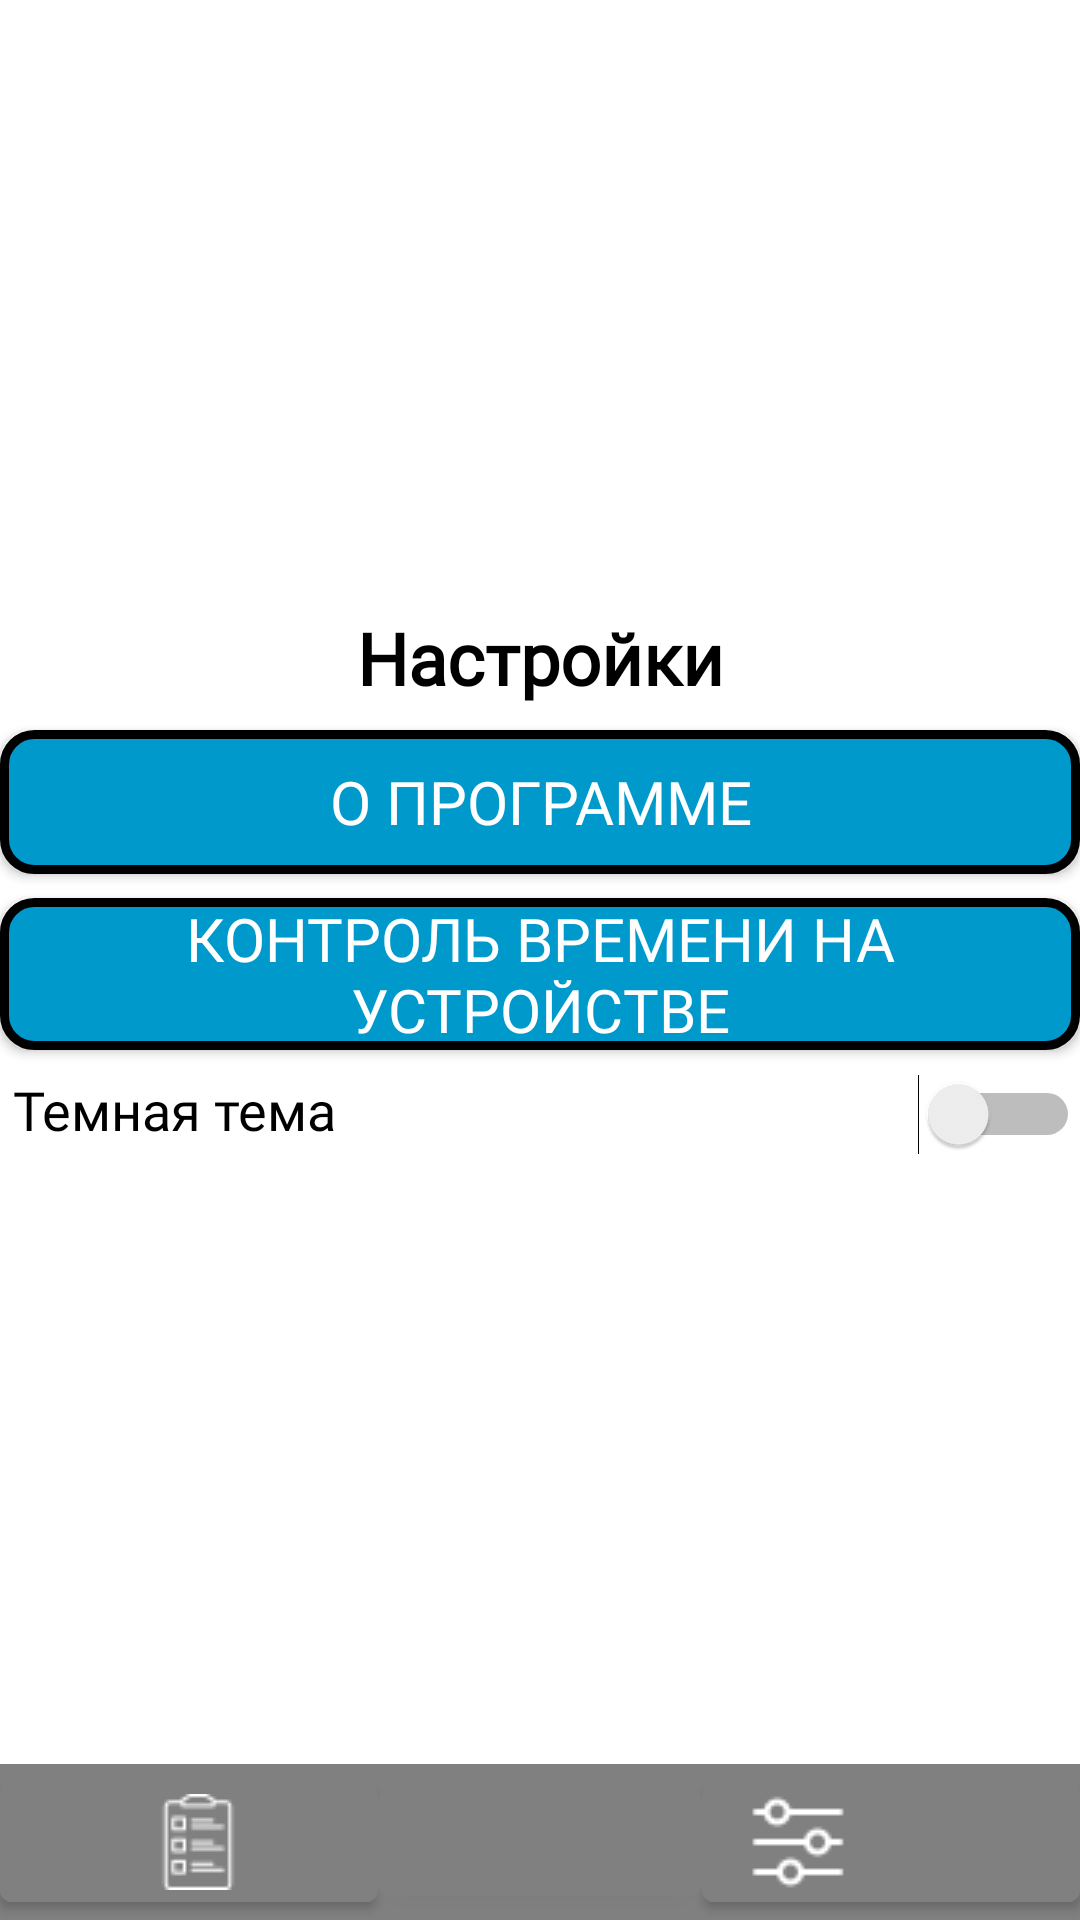

Named icons in this screenshot (1080px x 1920px) and their centers, point (x, y):
free report: point (198, 1842)
free settings: point (798, 1842)
